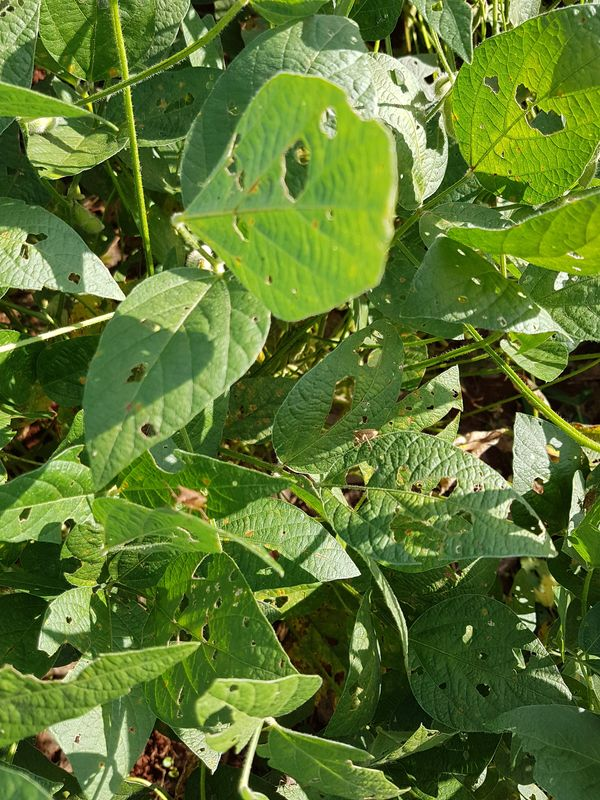Euschistus_heros_adulto: (165, 481, 216, 526), (345, 422, 385, 455)
